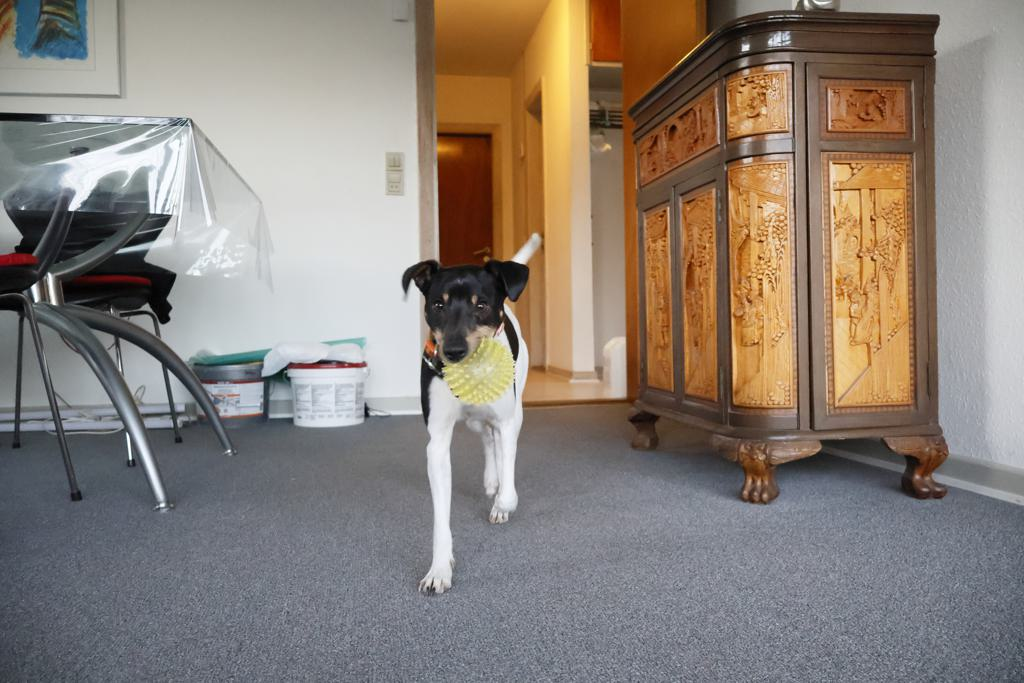Dog: (378, 212, 562, 609)
